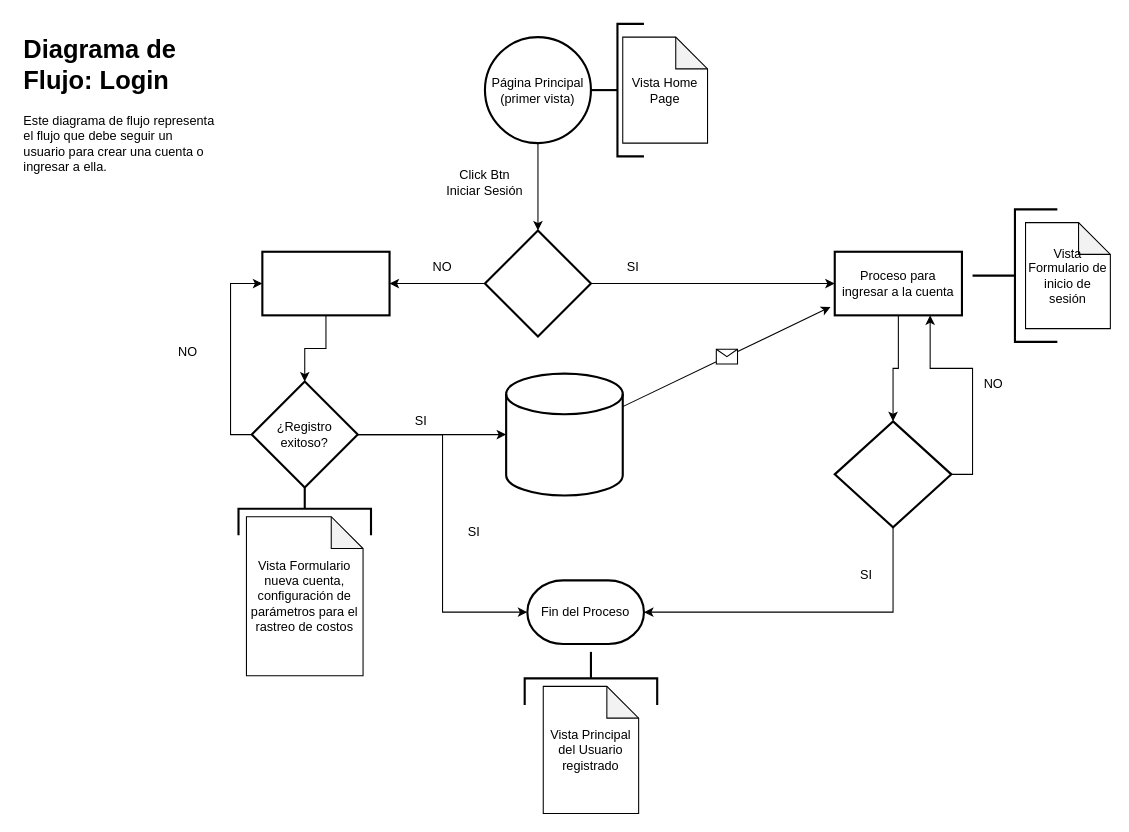
The diagram is 1129 pixels wide and 832 high, and some of its shapes have lost their labels. Each missing label, with the centre of its shape:
Azure SQL Database: (x=564, y=434)
Proceso para crear una cuenta: (x=325, y=283)
¿Ingreso exitoso?: (x=892, y=474)
¿Ya tiene una cuenta?: (x=537, y=283)
